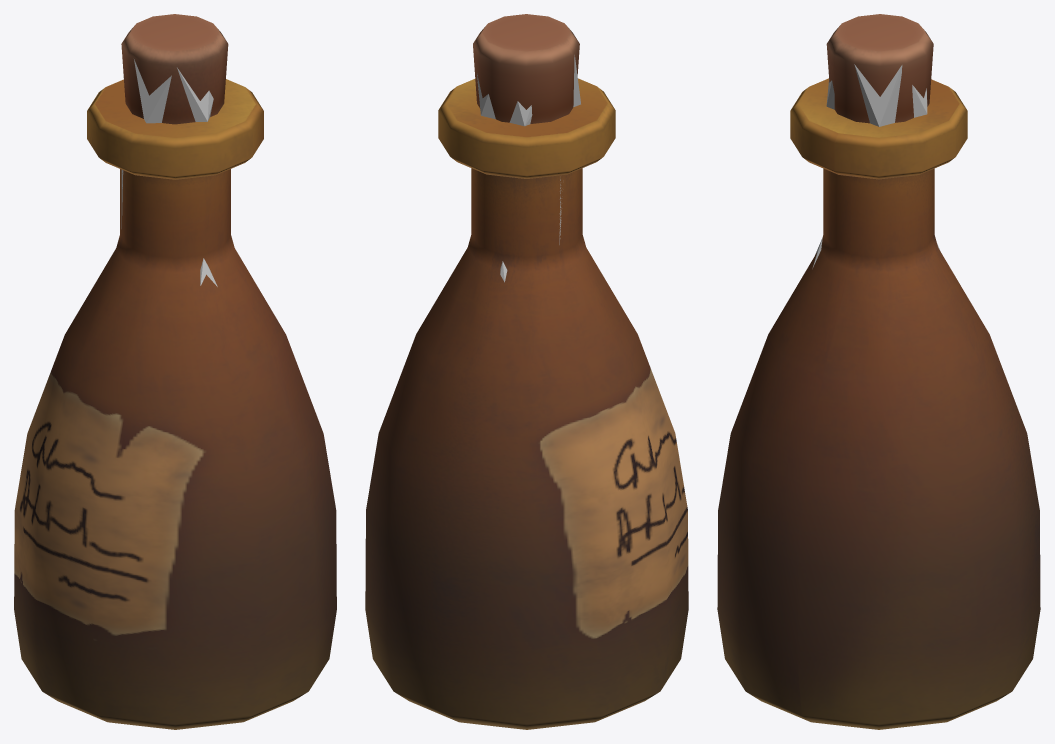
Rendered from SM_Bottle_g.fbx.
3 renders of one model, left to right at view 1: azimuth 30°, elevation 25°; view 2: azimuth 150°, elevation 25°; view 3: azimuth 270°, elevation 25°, orthographic.
Parts seen in each view (by area): view 1: SM_Bottle_g, SM_Bottle_g_ConvexHulls; view 2: SM_Bottle_g, SM_Bottle_g_ConvexHulls; view 3: SM_Bottle_g, SM_Bottle_g_ConvexHulls.
Part boxes in pixels (x1,y1,x2,y2): SM_Bottle_g: (14,14,336,729); SM_Bottle_g_ConvexHulls: (121,59,217,286); SM_Bottle_g: (365,14,688,729); SM_Bottle_g_ConvexHulls: (477,55,580,282); SM_Bottle_g: (717,14,1040,729); SM_Bottle_g_ConvexHulls: (812,64,940,268).
Size of the model in its own units: 28.91 by 28.91 by 63.19.
Materials: 2 (1 with a texture image).
